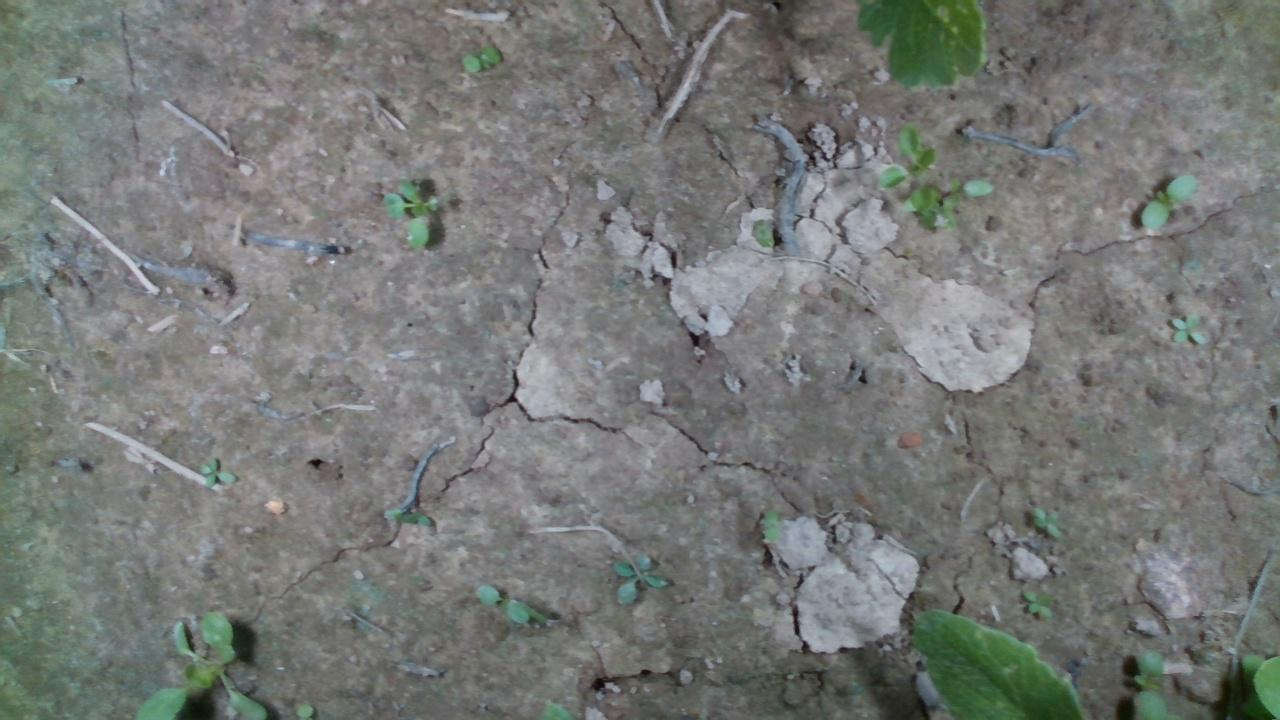weed: (1137, 170, 1198, 231), (471, 582, 529, 624), (1169, 312, 1206, 346), (459, 45, 502, 72)
